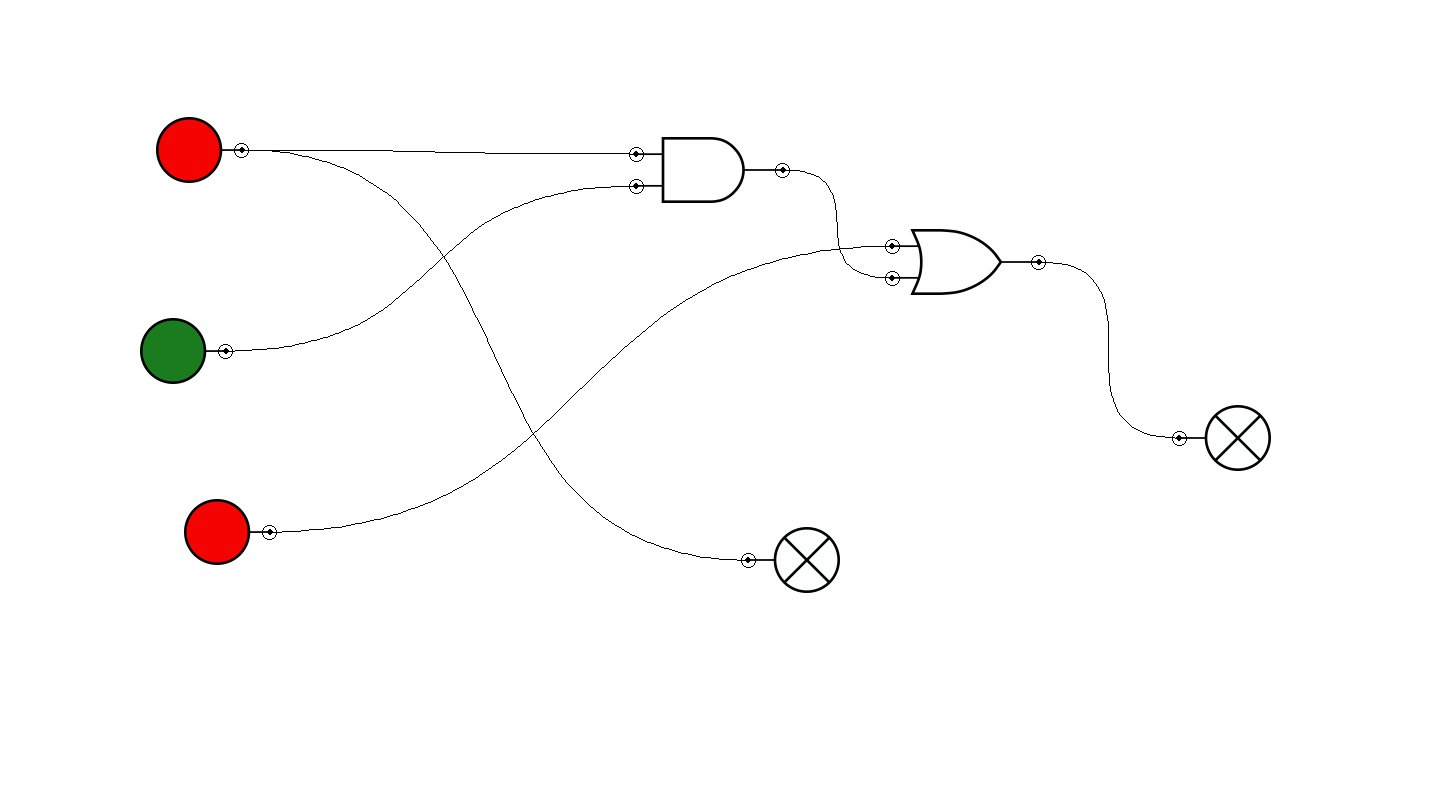and: (629, 137, 790, 203)
bulb: (1172, 405, 1271, 471), (741, 527, 840, 593)
or: (885, 229, 1046, 295)
switch_False: (156, 117, 249, 183), (184, 499, 277, 565)
switch_True: (140, 318, 233, 384)
